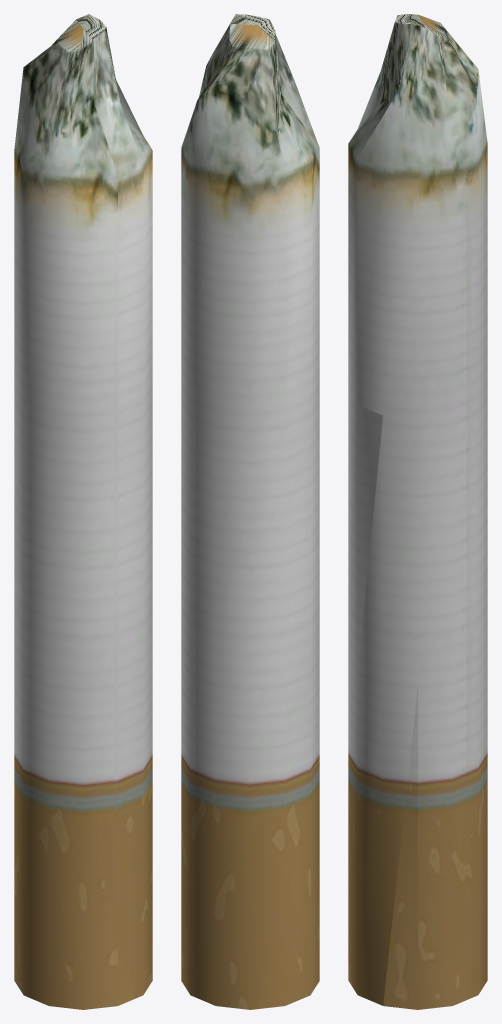
The model's file is Cine_Cigarette01.FBX.
The picture shows the model from 3 angles, left to right: view 1: azimuth 90°, elevation 25°; view 2: azimuth 150°, elevation 25°; view 3: azimuth 270°, elevation 25°; orthographic projection.
Visible parts, largest first — view 1: Cine_Cigarette01; view 2: Cine_Cigarette01; view 3: Cine_Cigarette01.
Part boxes in pixels (x1,y1,x2,y2): Cine_Cigarette01: [14, 14, 152, 1009]; Cine_Cigarette01: [181, 14, 319, 1009]; Cine_Cigarette01: [348, 14, 487, 1009].
Bounding box in the file's own units: 0.014 × 0.107 × 0.014.
